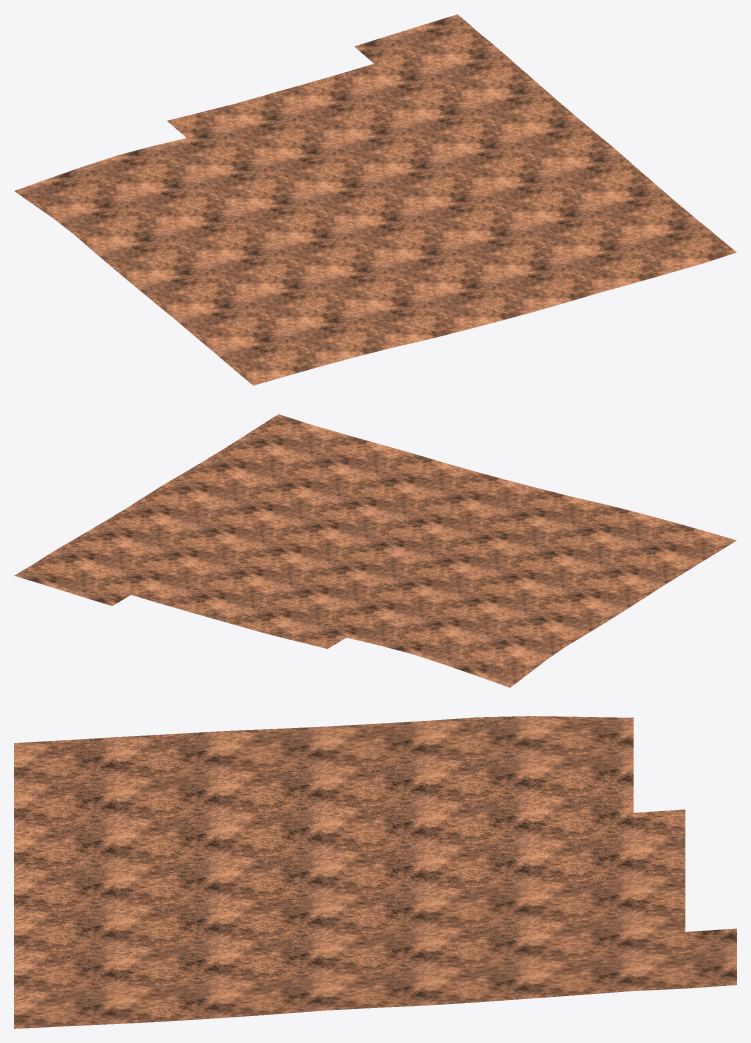
The model's file is terrain_13_23.dae.
3 renders of one model, top to bottom at view 1: azimuth 30°, elevation 25°; view 2: azimuth 150°, elevation 25°; view 3: azimuth 270°, elevation 25°, orthographic. The views are drawn at different scales.
Parts seen in each view (by area): view 1: terrain_13_23-node; view 2: terrain_13_23-node; view 3: terrain_13_23-node.
Boxes of the visible parts, x1,y1,x2,y2 form: terrain_13_23-node: (14,14,736,385); terrain_13_23-node: (14,414,736,687); terrain_13_23-node: (14,716,736,1028).
Size of the model in its own units: 56 by 56 by 5.43.
Materials: 1 (1 with a texture image).
